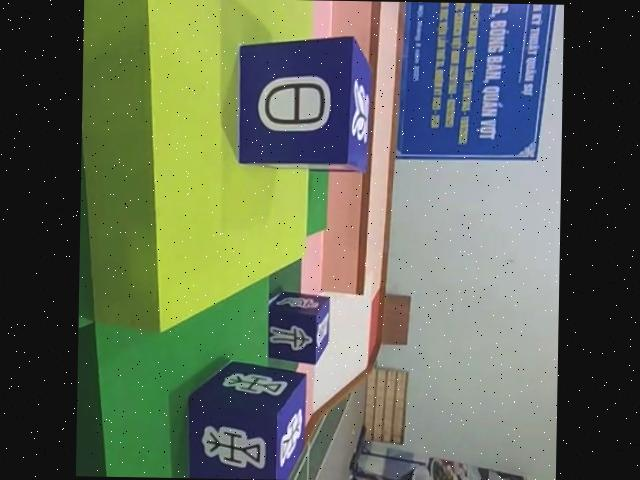R2 Fake Blue: (235, 35, 373, 174), (267, 289, 332, 362)
R2 Real Blue: (184, 361, 306, 480)
